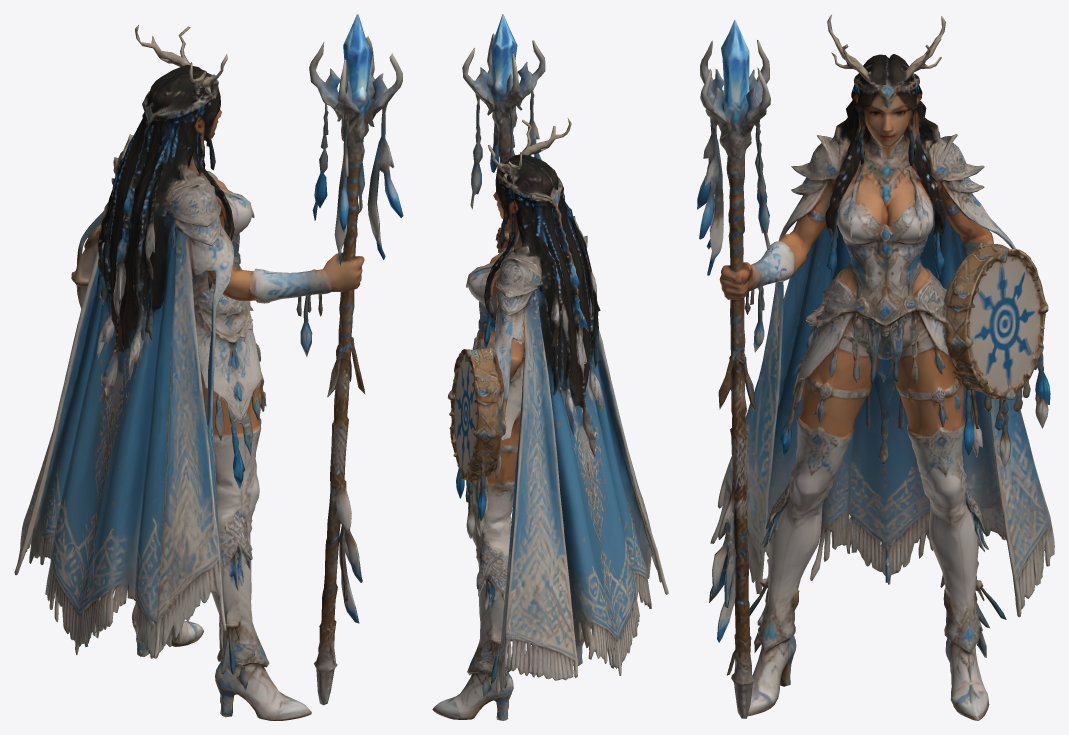
Rendered from drumcaller2_T5-tripo.glb.
The picture shows the model from 3 angles, left to right: view 1: azimuth 30°, elevation 25°; view 2: azimuth 150°, elevation 25°; view 3: azimuth 270°, elevation 25°; orthographic projection. The views are drawn at different scales.
Visible parts, largest first — view 1: tripo_node_411ac920-c82c-43b3-876e-bcfc8055d3f3; view 2: tripo_node_411ac920-c82c-43b3-876e-bcfc8055d3f3; view 3: tripo_node_411ac920-c82c-43b3-876e-bcfc8055d3f3.
Boxes of the visible parts, x1=… form: tripo_node_411ac920-c82c-43b3-876e-bcfc8055d3f3: x1=14, y1=14, x2=403, y2=720; tripo_node_411ac920-c82c-43b3-876e-bcfc8055d3f3: x1=432, y1=14, x2=668, y2=720; tripo_node_411ac920-c82c-43b3-876e-bcfc8055d3f3: x1=697, y1=14, x2=1054, y2=720.
Bounding box in the file's own units: 0.3691 × 1 × 0.4498.
Materials: 1 (1 with a texture image).
